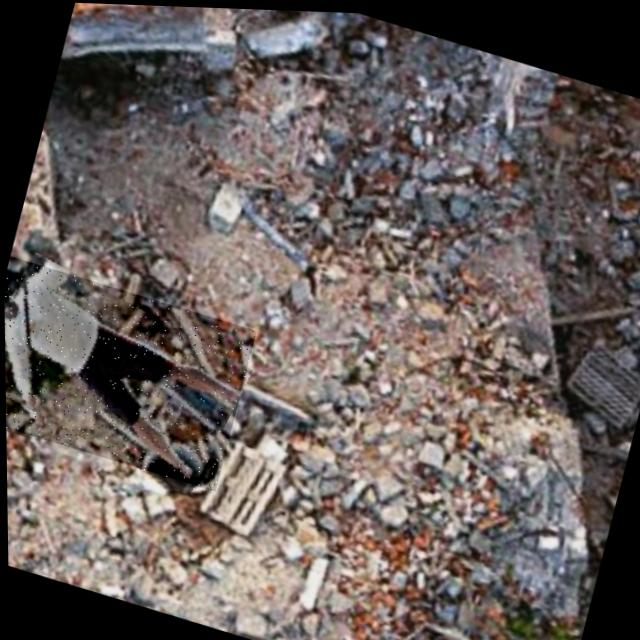Person in Rubble: (3, 254, 257, 489)
